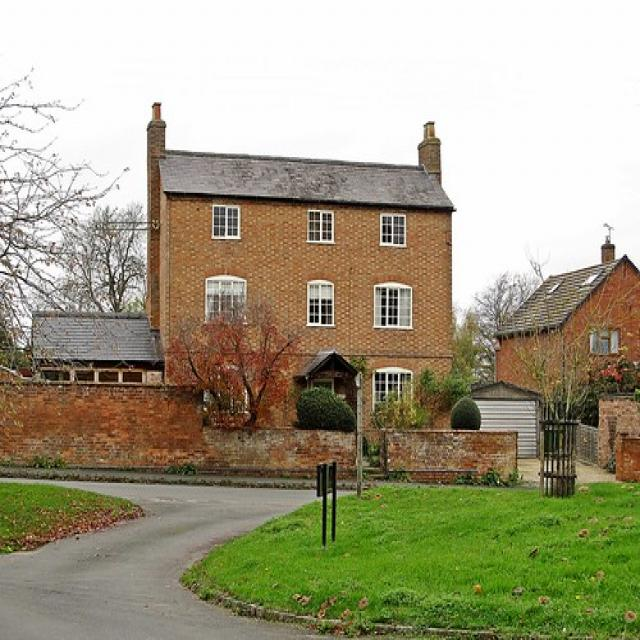Normal_building: (134, 86, 465, 443), (490, 243, 640, 457), (32, 308, 160, 414)
